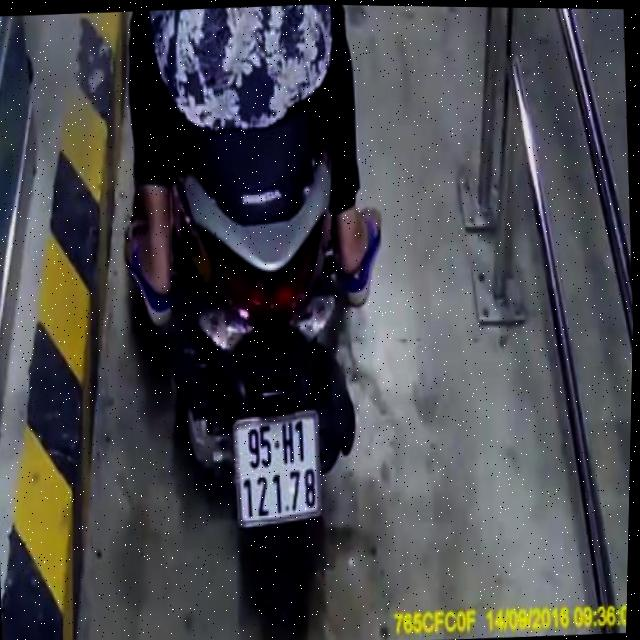motorcycle: (155, 128, 384, 629)
plate: (224, 402, 328, 534)
